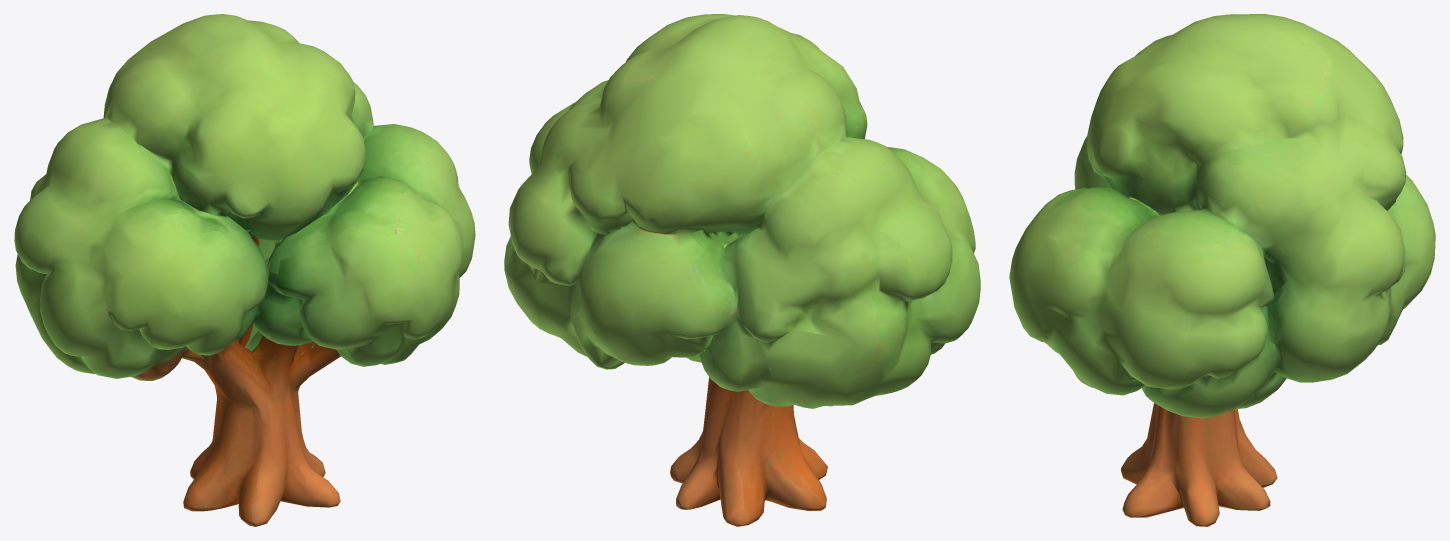
The model's file is cherry.glb.
The picture shows the model from 3 angles, left to right: view 1: azimuth 30°, elevation 25°; view 2: azimuth 150°, elevation 25°; view 3: azimuth 270°, elevation 25°; orthographic projection. The views are drawn at different scales.
Parts seen in each view (by area): view 1: textured_mesh.obj; view 2: textured_mesh.obj; view 3: textured_mesh.obj.
Boxes of the visible parts, x1,y1,x2,y2 form: textured_mesh.obj: (14,14,475,526); textured_mesh.obj: (504,14,980,526); textured_mesh.obj: (1009,14,1435,526).
Size of what is drawn, in the model's own units: 2.75 by 2.9 by 2.38.
Materials: 1 (1 with a texture image).
